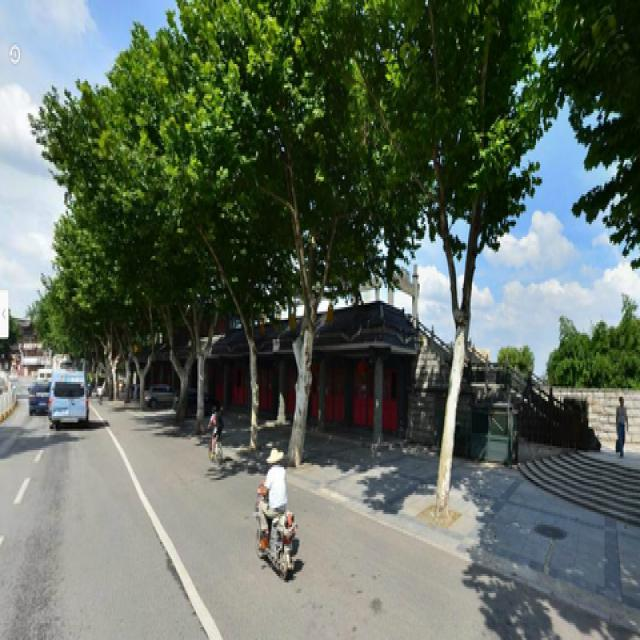meta: (216, 6, 347, 465), (386, 8, 506, 495)
